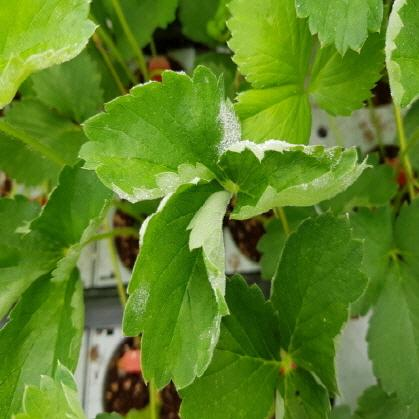Powdery Mildew Leaf: (121, 176, 235, 392), (76, 63, 242, 205), (215, 138, 374, 220), (0, 0, 100, 111), (384, 0, 418, 110)
